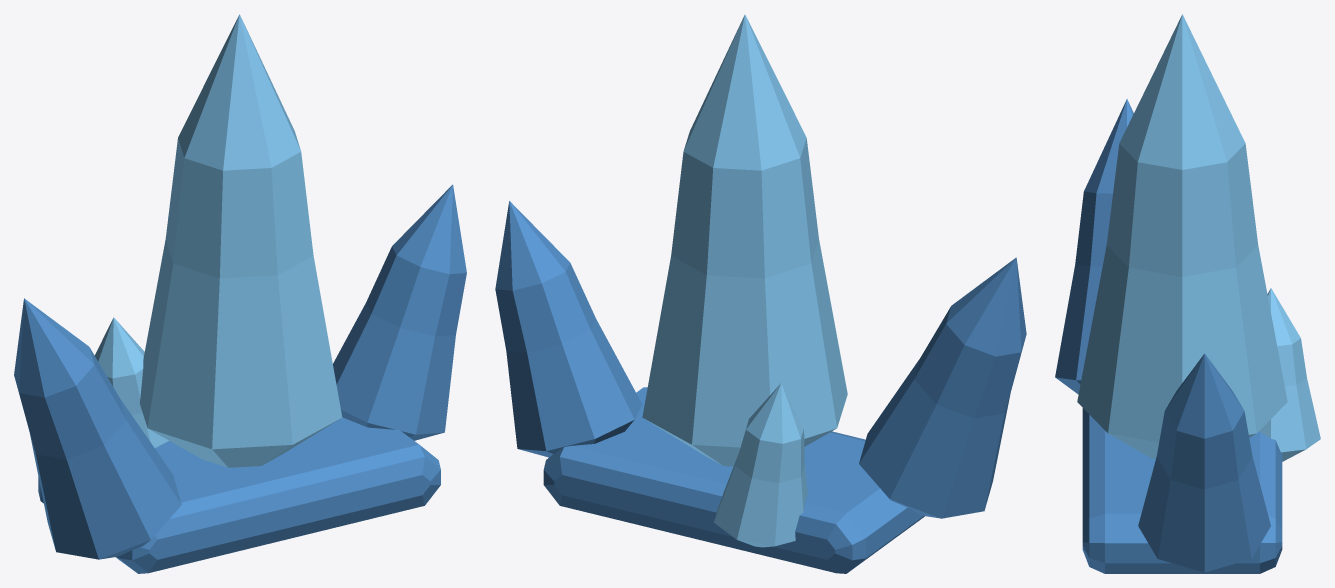
The model's file is game-ui-icon-library-ice-shard-44e7d875__19031.glb.
The picture shows the model from 3 angles, left to right: view 1: azimuth 30°, elevation 25°; view 2: azimuth 150°, elevation 25°; view 3: azimuth 270°, elevation 25°; orthographic projection.
Parts seen in each view (by area): view 1: ice-shard; view 2: ice-shard; view 3: ice-shard.
Part boxes in pixels (bbox=[...]): ice-shard: bbox=[14, 14, 466, 573]; ice-shard: bbox=[495, 14, 1026, 573]; ice-shard: bbox=[1055, 14, 1320, 573].
Size of the model in its own units: 0.9548 by 0.94 by 0.4604.
